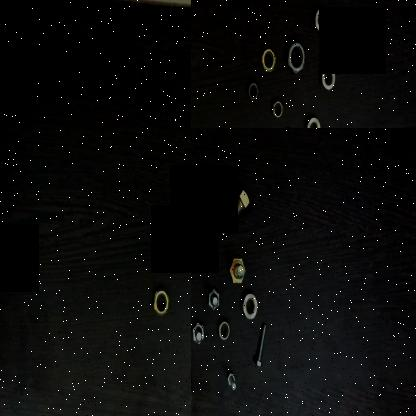Bolts: (214, 177, 252, 237), (252, 318, 272, 367), (228, 252, 246, 286), (205, 284, 221, 314), (191, 319, 205, 347), (225, 366, 237, 394), (191, 365, 198, 409)
NUTS: (284, 36, 306, 78), (191, 172, 207, 220), (240, 290, 260, 324), (312, 2, 330, 36), (151, 285, 170, 316), (318, 62, 335, 96), (260, 43, 276, 76), (216, 314, 231, 342), (270, 92, 284, 121), (246, 78, 259, 104), (303, 112, 321, 128)
